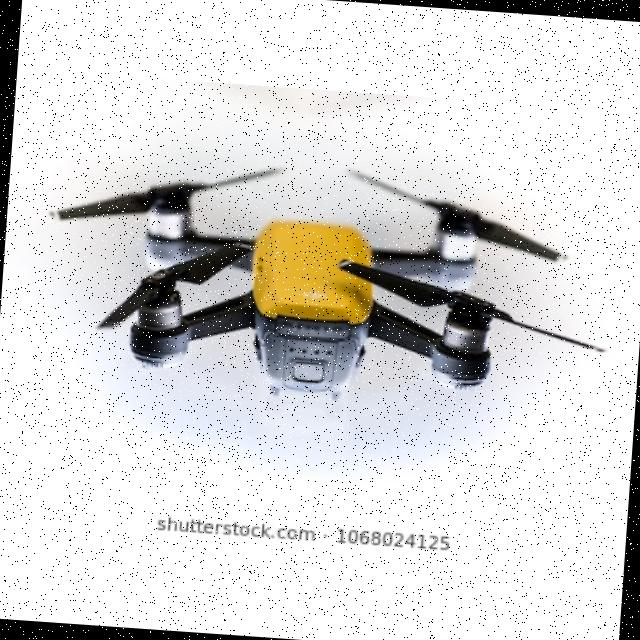Drones: (93, 152, 570, 424)
